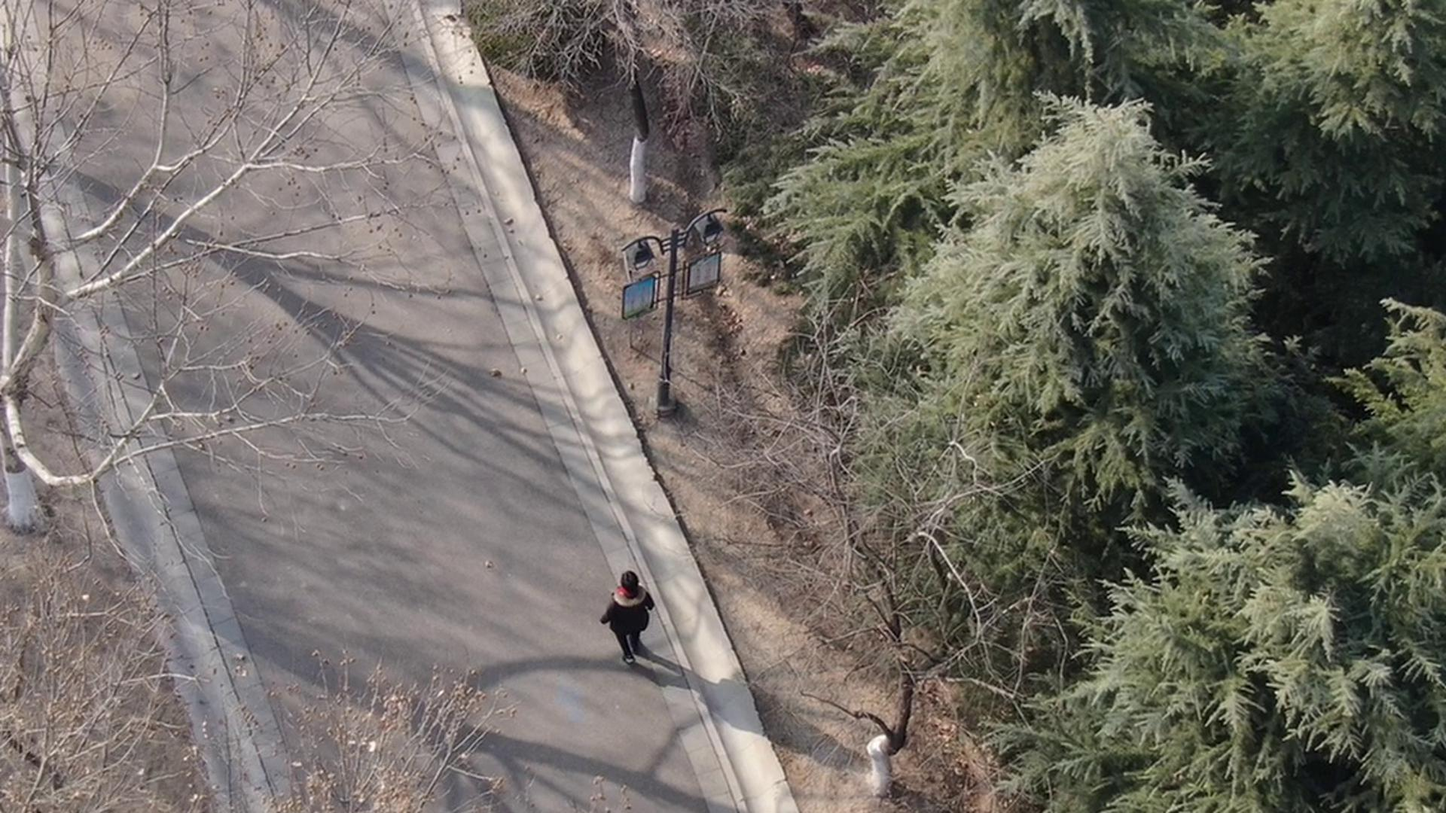human: (596, 572, 664, 680)
